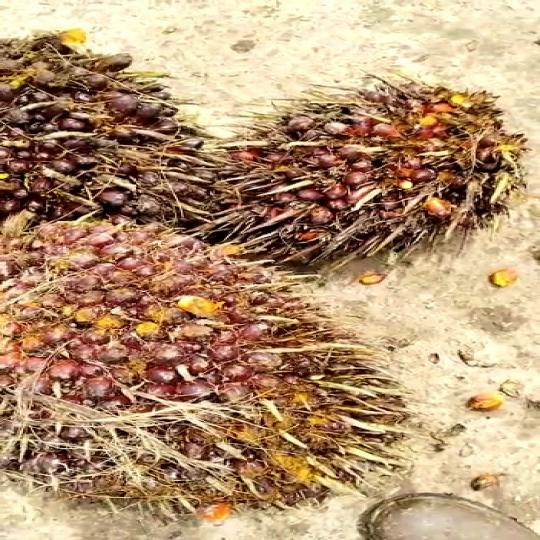masak: (0, 210, 417, 511), (202, 76, 529, 276), (0, 24, 221, 232)
